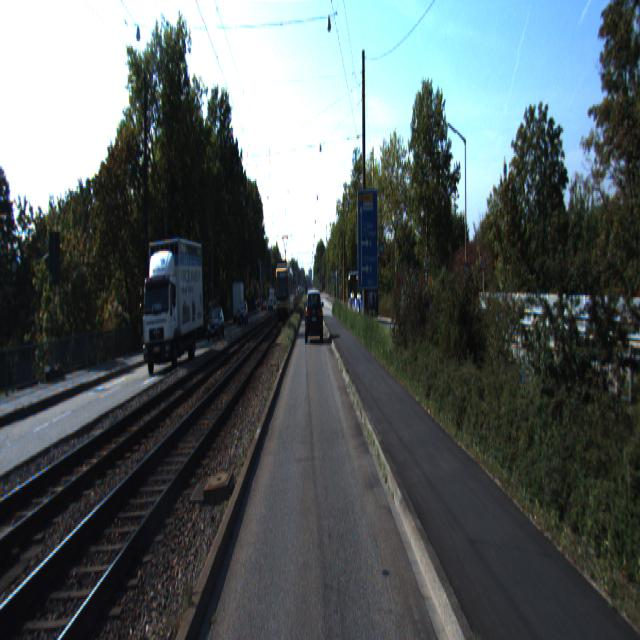Car: (139, 230, 204, 374), (347, 272, 379, 325), (306, 291, 323, 344), (207, 306, 226, 343)
